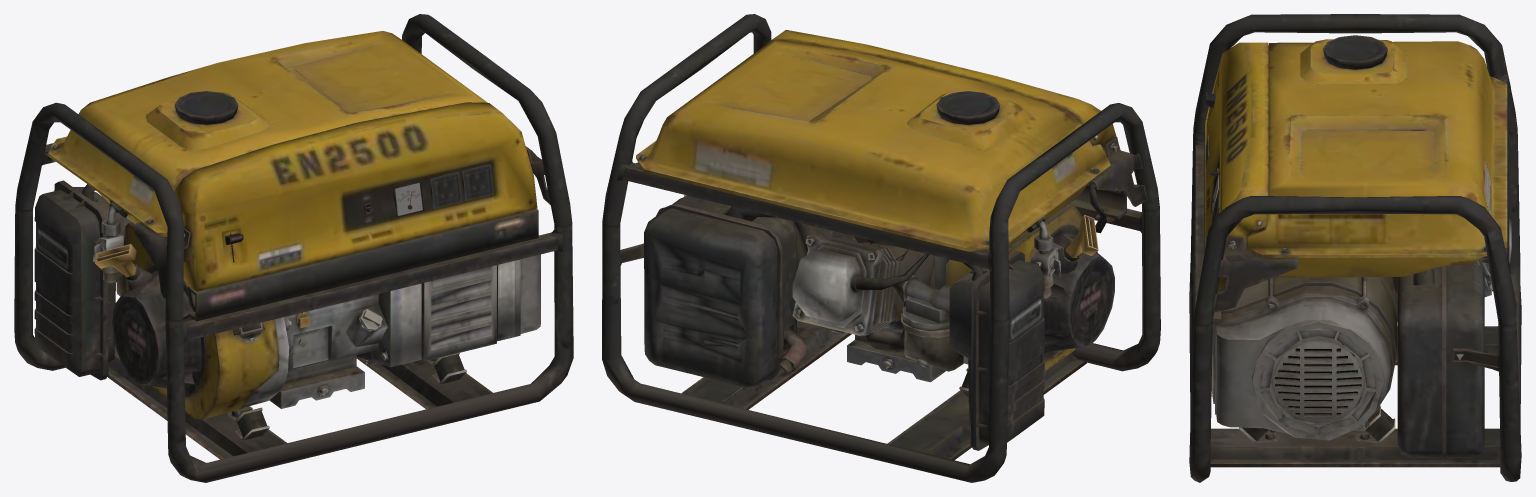
The model's file is portable_generator.55363300.glb.
3 renders of one model, left to right at view 1: azimuth 30°, elevation 25°; view 2: azimuth 150°, elevation 25°; view 3: azimuth 270°, elevation 25°, orthographic.
Parts seen in each view (by area): view 1: portable_generator; view 2: portable_generator; view 3: portable_generator.
Part boxes in pixels (x1,y1,x2,y2): portable_generator: (14, 14, 573, 482); portable_generator: (602, 14, 1160, 482); portable_generator: (1189, 14, 1521, 482).
Size of the model in its own units: 0.95 by 0.6692 by 0.6561.
Materials: 2 (2 with a texture image).
